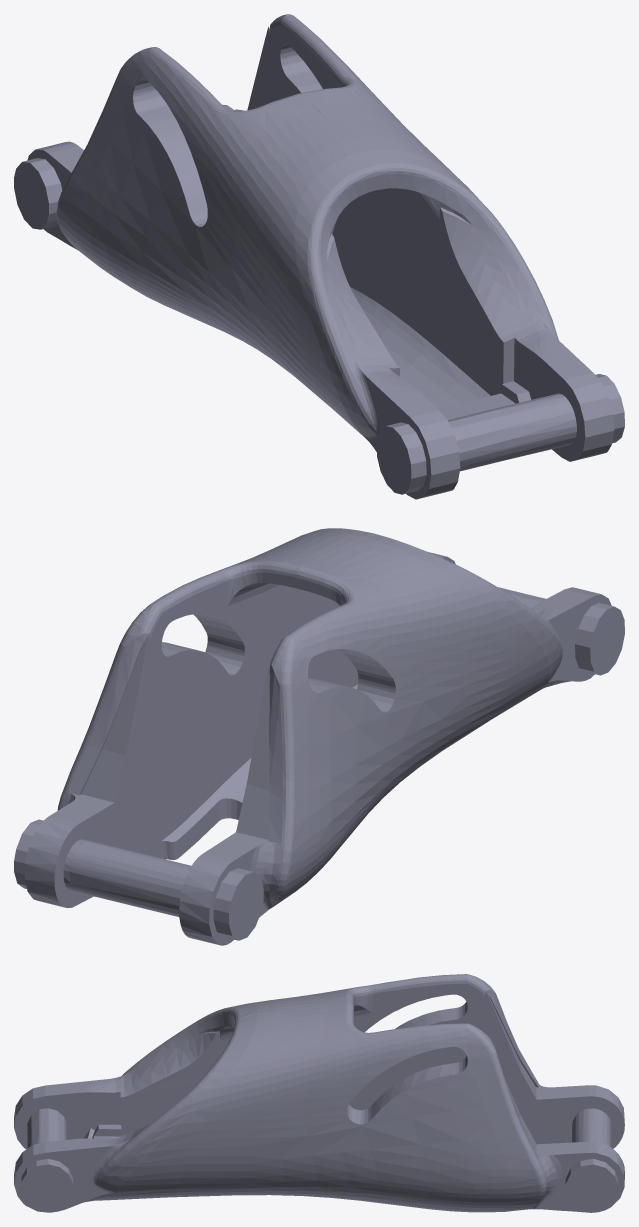
The model's file is hand2_link_3_1_visuals.obj.
3 views of the same model, one above another, from view 1: azimuth 30°, elevation 25°; view 2: azimuth 150°, elevation 25°; view 3: azimuth 270°, elevation 25° (orthographic). The views are drawn at different scales.
Bounding box in the file's own units: 0.0152 × 0.016 × 0.046.
